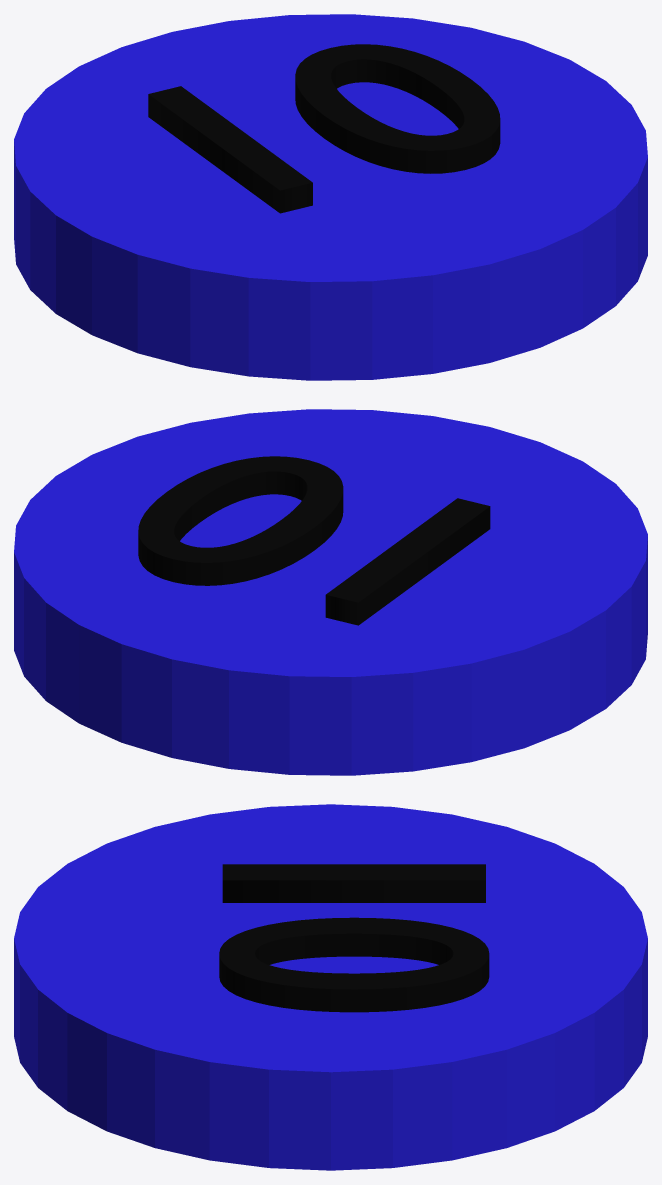
3 views of the same model, one above another, from view 1: azimuth 30°, elevation 25°; view 2: azimuth 150°, elevation 25°; view 3: azimuth 270°, elevation 25° (orthographic).
Parts seen in each view (by area): view 1: 円柱.003, テキスト.003; view 2: 円柱.003, テキスト.003; view 3: 円柱.003, テキスト.003.
Boxes of the visible parts, x1,y1,x2,y2 form: 円柱.003: (14, 14, 647, 380); テキスト.003: (148, 44, 500, 213); 円柱.003: (14, 409, 647, 775); テキスト.003: (138, 456, 490, 625); 円柱.003: (14, 804, 647, 1170); テキスト.003: (219, 864, 489, 1012).
Size of the model in its own units: 208 by 43.83 by 208.
